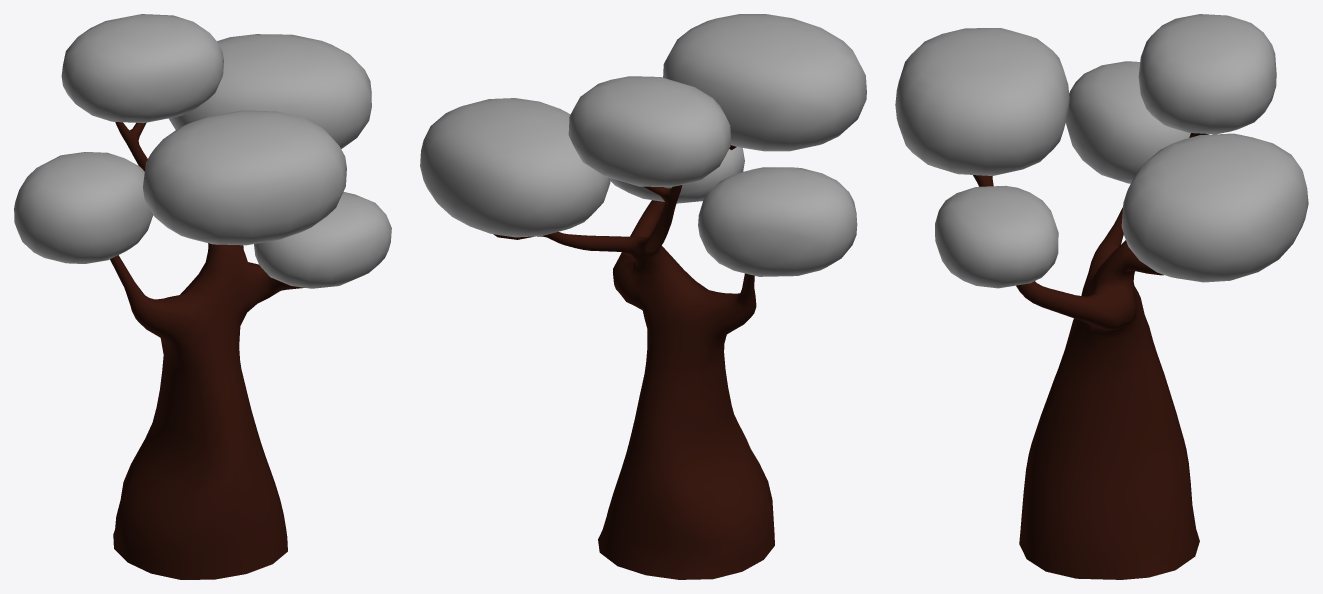
The model's file is tree_07.fbx.
The picture shows the model from 3 angles, left to right: view 1: azimuth 30°, elevation 25°; view 2: azimuth 150°, elevation 25°; view 3: azimuth 270°, elevation 25°; orthographic projection. The views are drawn at different scales.
Parts seen in each view (by area): view 1: tree_07; view 2: tree_07; view 3: tree_07.
Boxes of the visible parts, left/top/right/bottom form: tree_07: left=14, top=14, right=391, bottom=579; tree_07: left=420, top=14, right=866, bottom=579; tree_07: left=895, top=14, right=1308, bottom=579.
Size of the model in its own units: 4.25 by 3.85 by 5.19.
